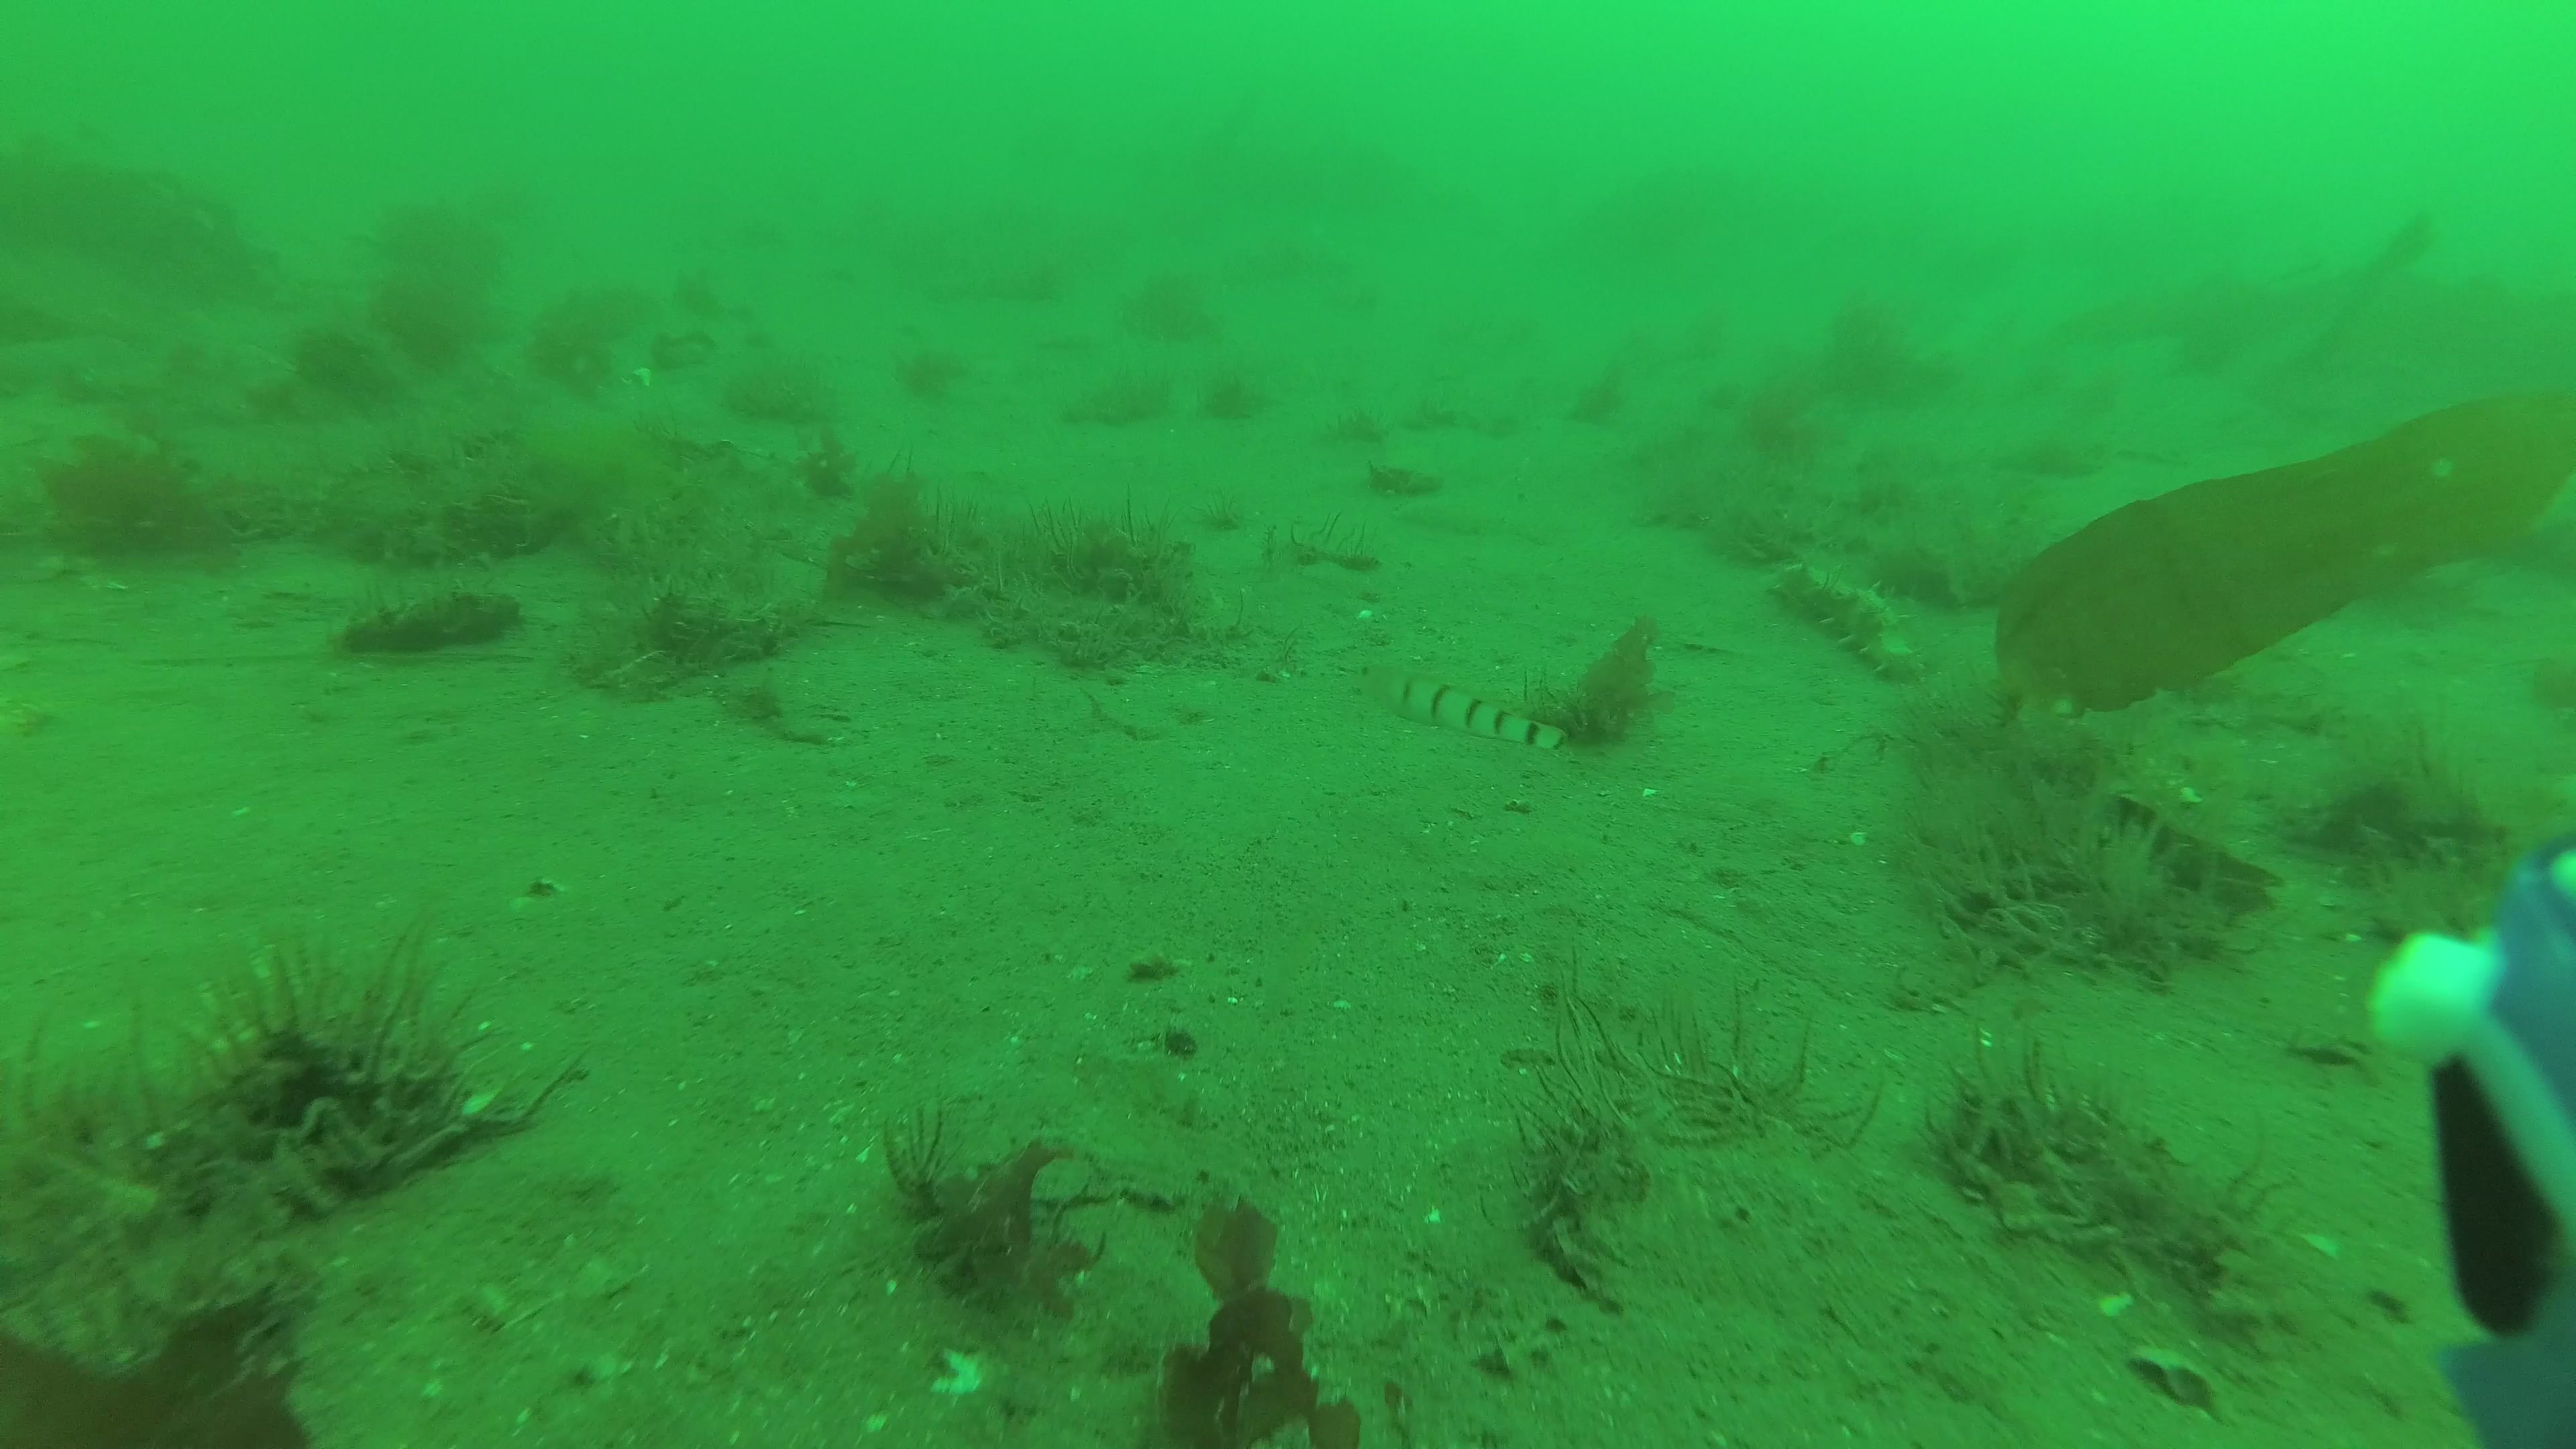holothurian: (1769, 556, 1930, 690)
